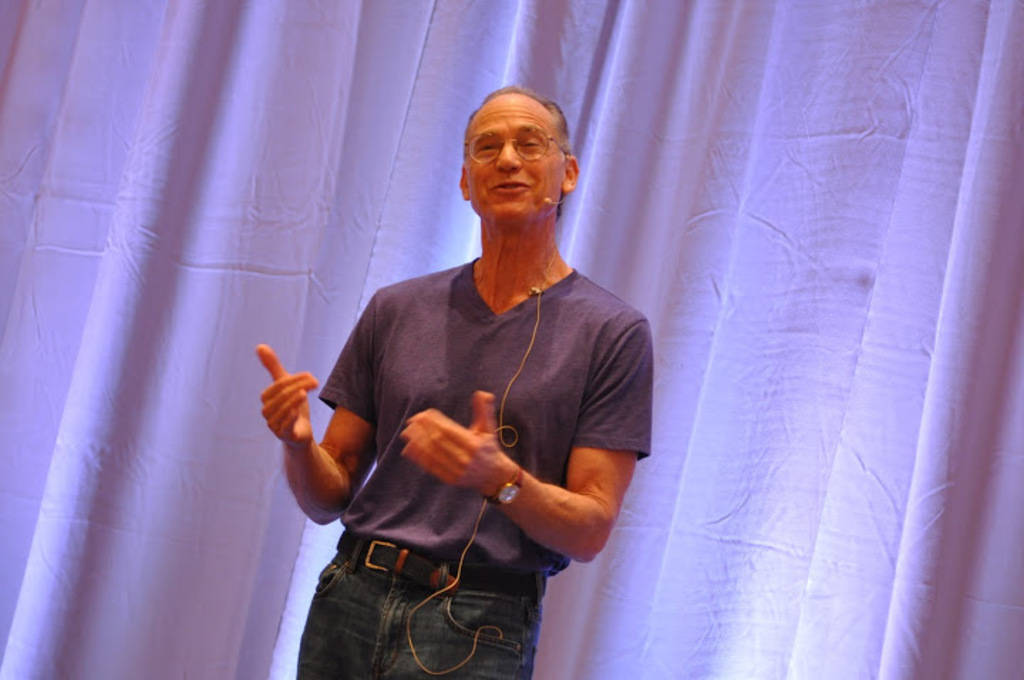Human_hand: (401, 388, 501, 492), (249, 353, 331, 454)
